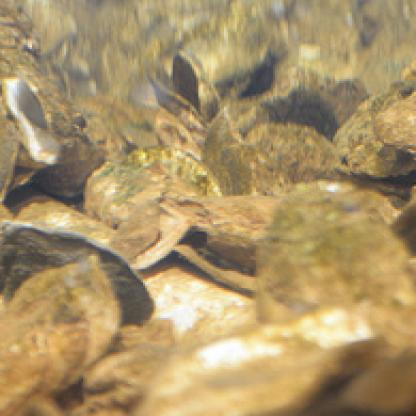Oyster-Closed: (257, 187, 416, 410), (135, 316, 382, 416), (0, 265, 121, 416), (0, 220, 160, 332), (83, 152, 216, 225), (336, 60, 416, 176), (172, 189, 287, 265), (246, 121, 338, 190), (375, 95, 416, 145)
Oyster-Open: (0, 75, 62, 166), (147, 53, 214, 124)
